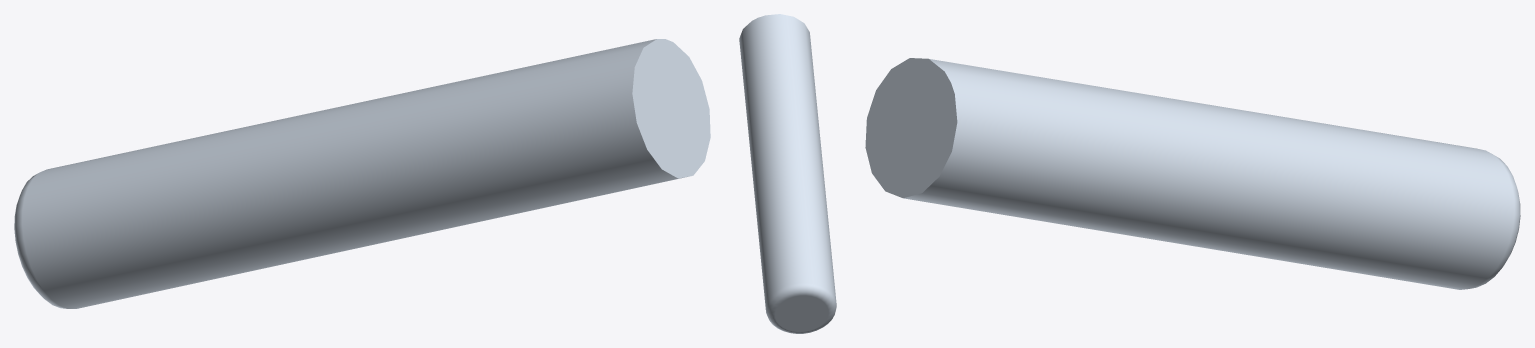
The model's file is RB-015_viewer.glb.
The picture shows the model from 3 angles, left to right: view 1: azimuth 30°, elevation 25°; view 2: azimuth 150°, elevation 25°; view 3: azimuth 270°, elevation 25°; orthographic projection. The views are drawn at different scales.
Visible parts, largest first — view 1: basebody_imported1; view 2: basebody_imported1; view 3: basebody_imported1.
Boxes of the visible parts, x1,y1,x2,y2 form: basebody_imported1: [14, 39, 710, 308]; basebody_imported1: [739, 14, 836, 333]; basebody_imported1: [865, 58, 1520, 289].
Size of the model in its own units: 0.00709 by 0.00577 by 0.00918.
